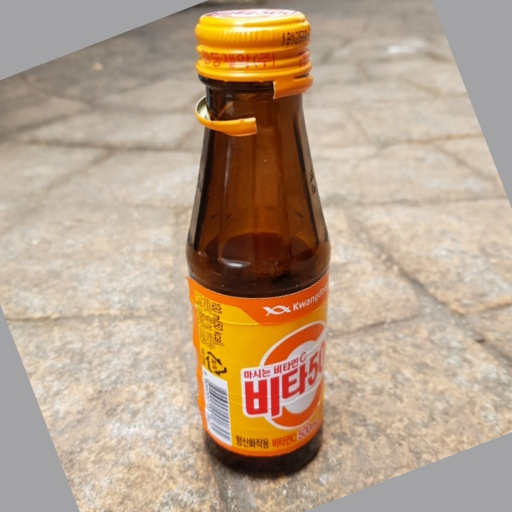Glass_3: (185, 7, 335, 477)
